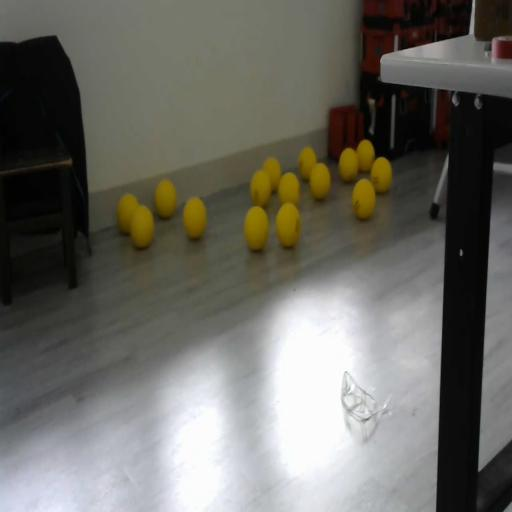FUEL: (128, 203, 154, 249), (182, 195, 208, 240), (243, 206, 269, 251), (276, 202, 300, 247), (352, 178, 376, 220), (308, 161, 332, 200), (155, 180, 177, 218), (370, 157, 392, 194), (278, 171, 300, 207), (338, 147, 359, 182), (262, 156, 282, 192), (355, 138, 375, 172)
